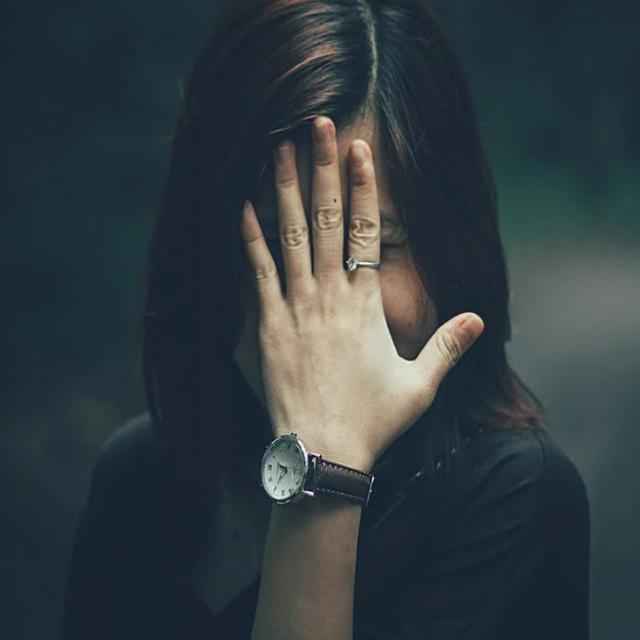Watch: (261, 428, 376, 514)
